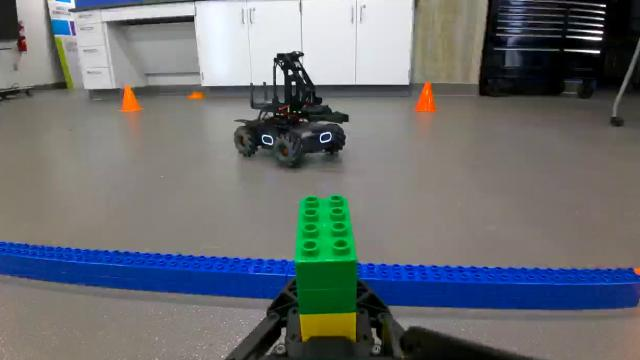robot: (229, 49, 369, 164)
